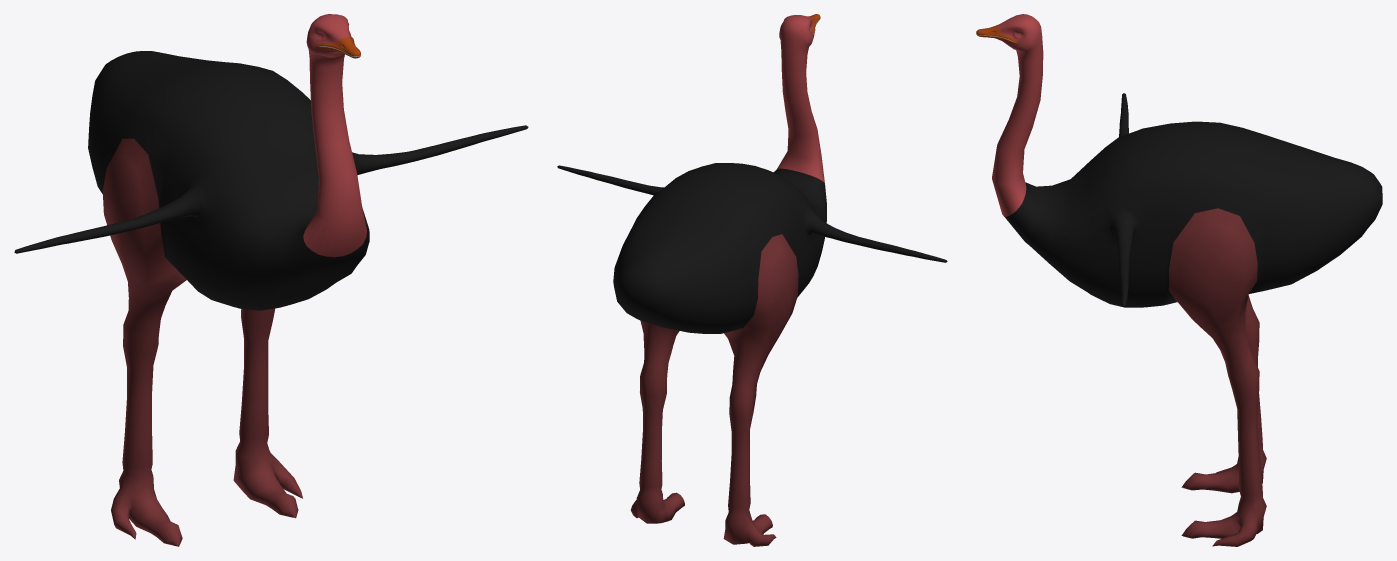
The model's file is ostrich_ostrich_triangulated.obj.
3 views of the same model, side by side, from view 1: azimuth 30°, elevation 25°; view 2: azimuth 150°, elevation 25°; view 3: azimuth 270°, elevation 25° (orthographic). The views are drawn at different scales.
Bounding box in the file's own units: 1.84 × 2 × 1.49.
